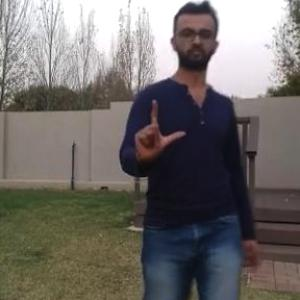land_hand: (129, 94, 189, 166)
